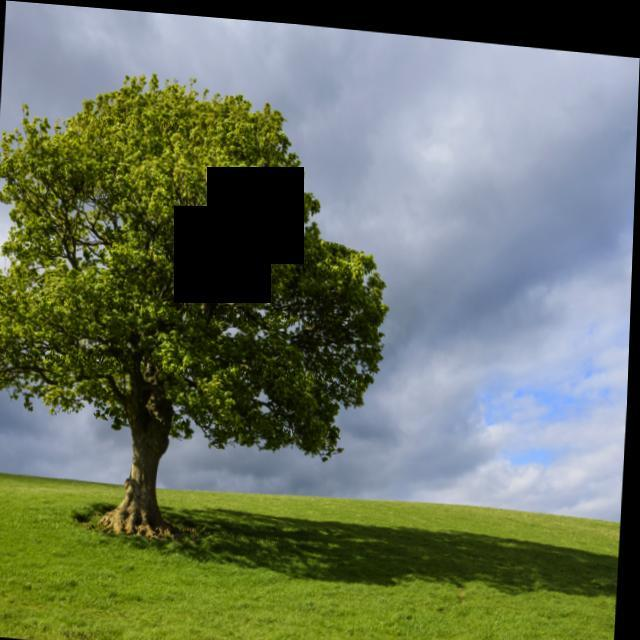Tree: (1, 66, 400, 554)
